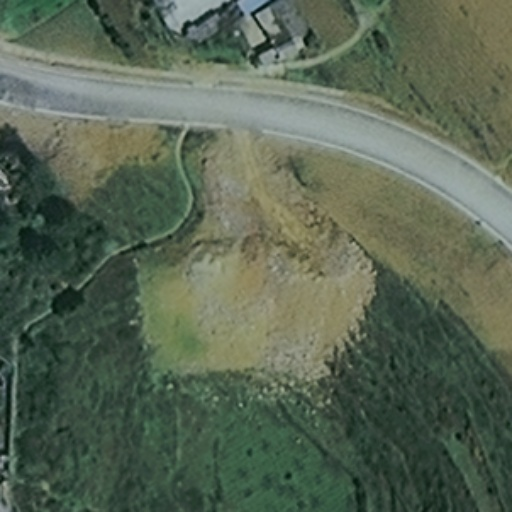landslide: (141, 273, 352, 374), (213, 133, 307, 271)
